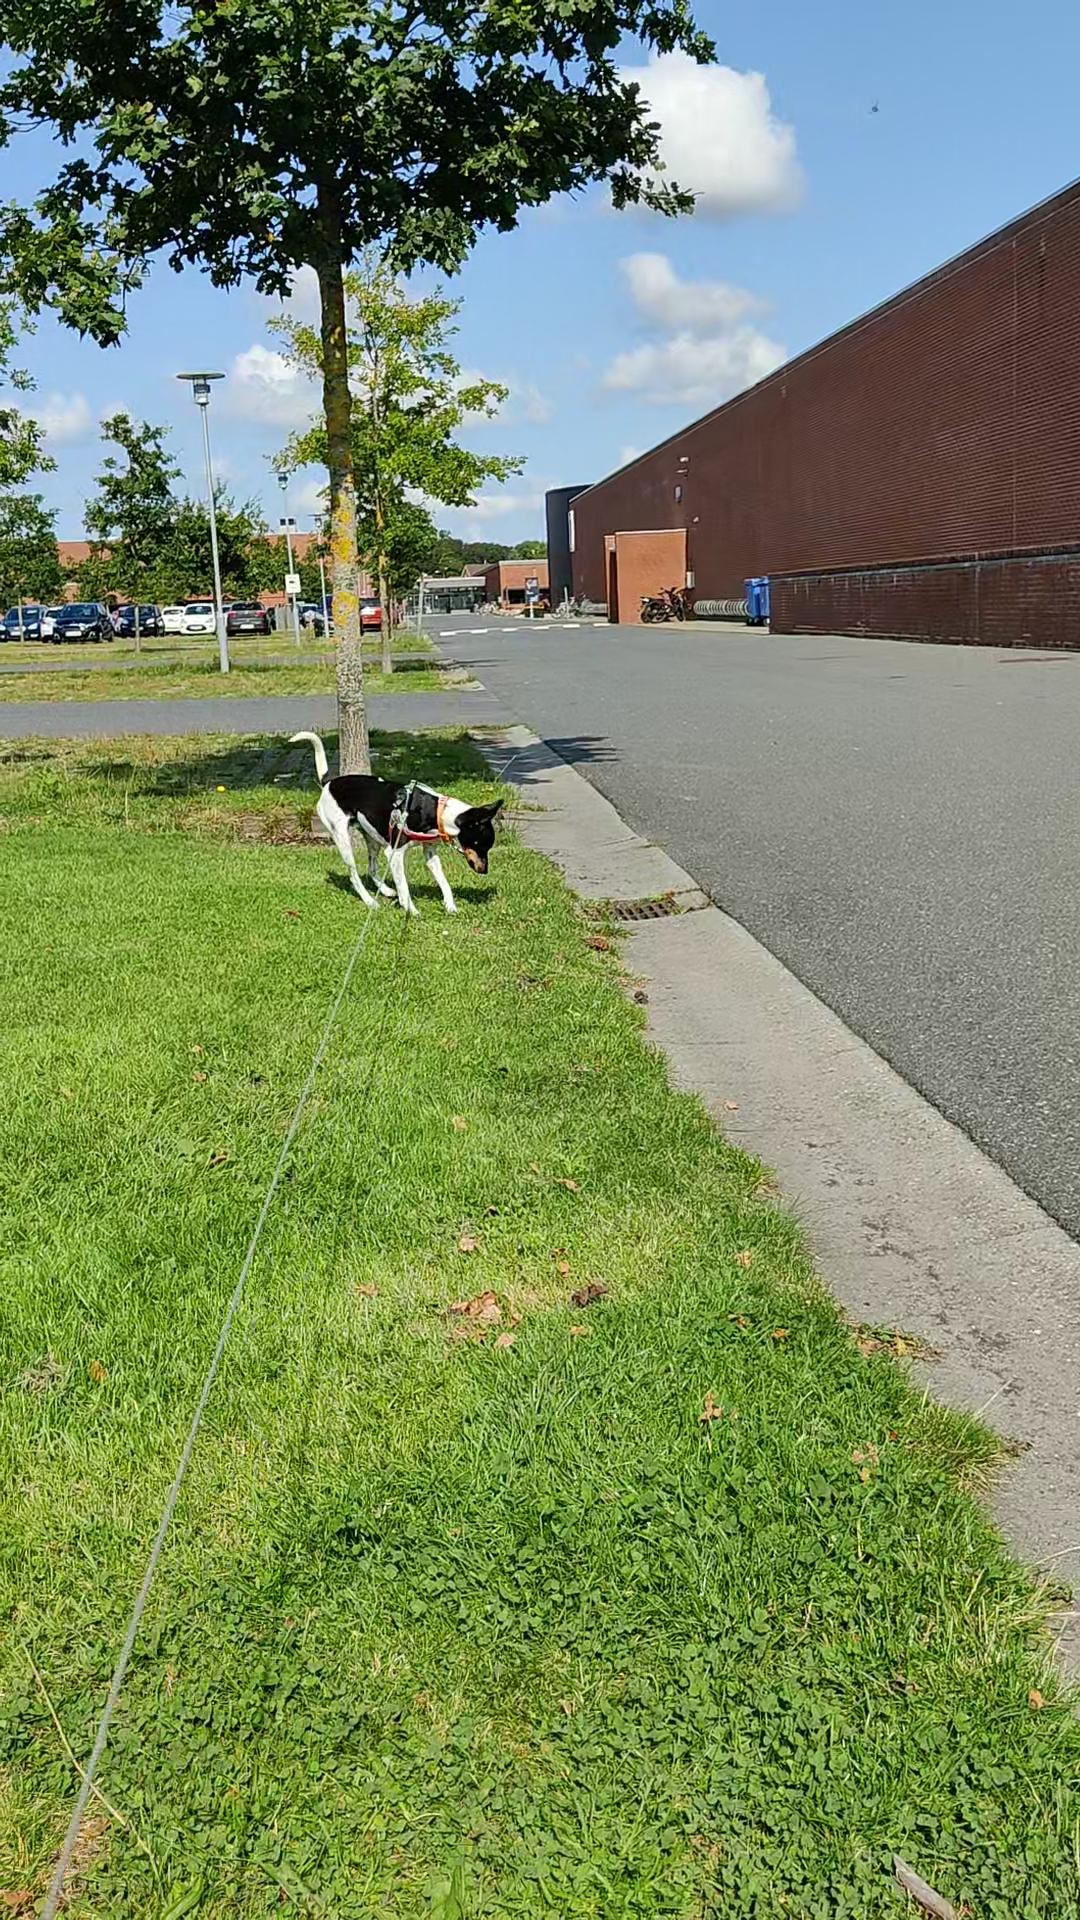Dog: (281, 729, 506, 920)
